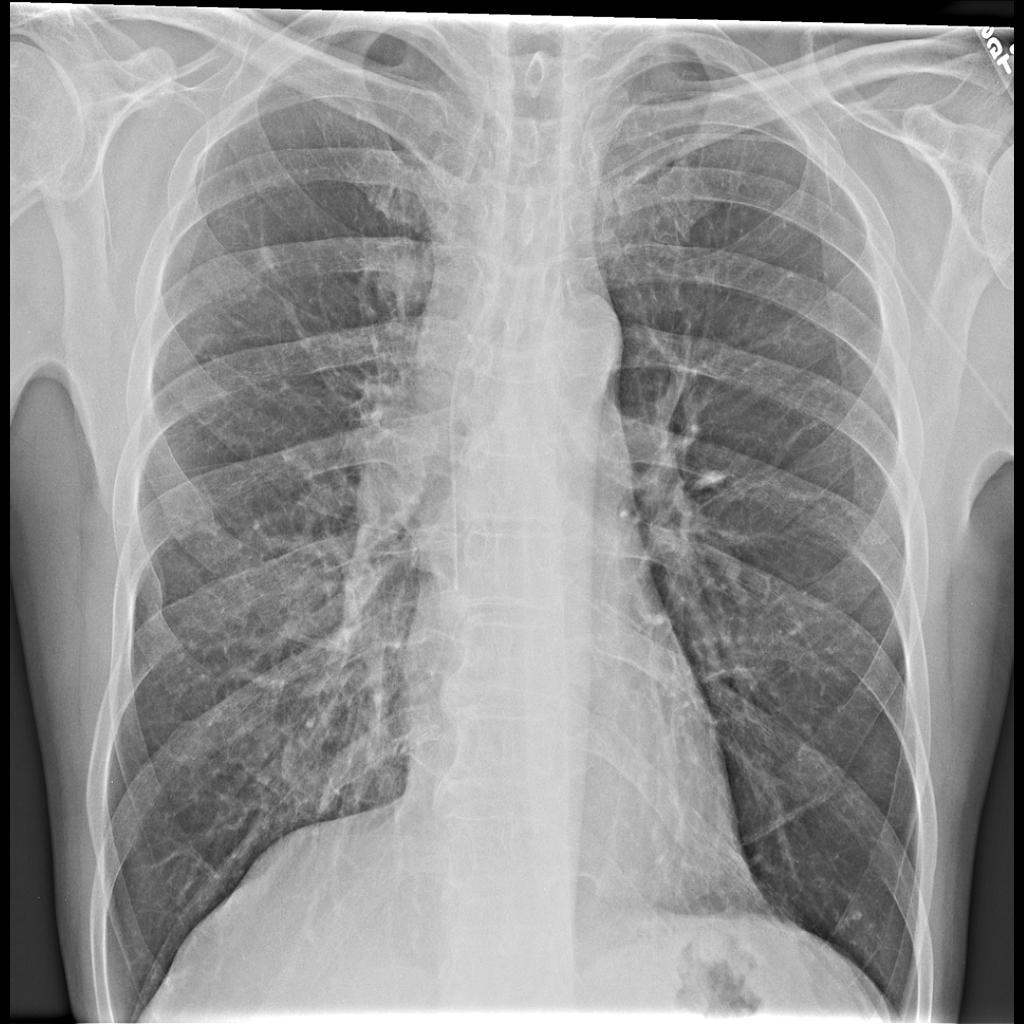Nodule: (368, 252, 435, 317)
